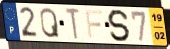2: (18, 6, 40, 39)
7: (130, 9, 148, 43)
F: (84, 9, 104, 40)
Q: (39, 7, 61, 40)
S: (106, 8, 132, 43)
T: (64, 7, 82, 41)
